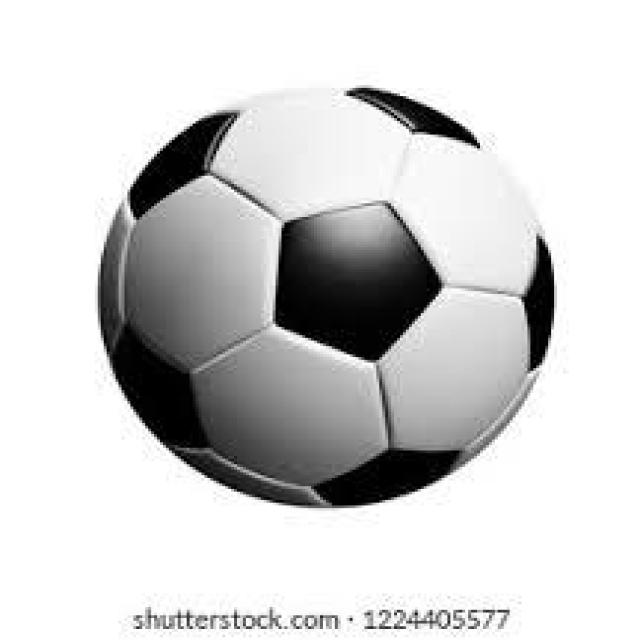Soccer Ball: (92, 85, 560, 514)
